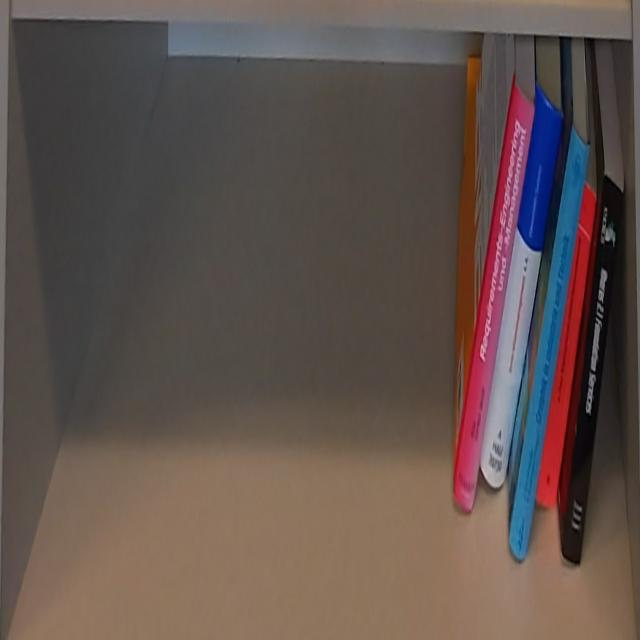Book Spine: (452, 75, 536, 513), (508, 127, 590, 566), (481, 88, 566, 492), (561, 173, 623, 570), (537, 178, 599, 510)
